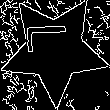L_E: (30, 34, 79, 66)
